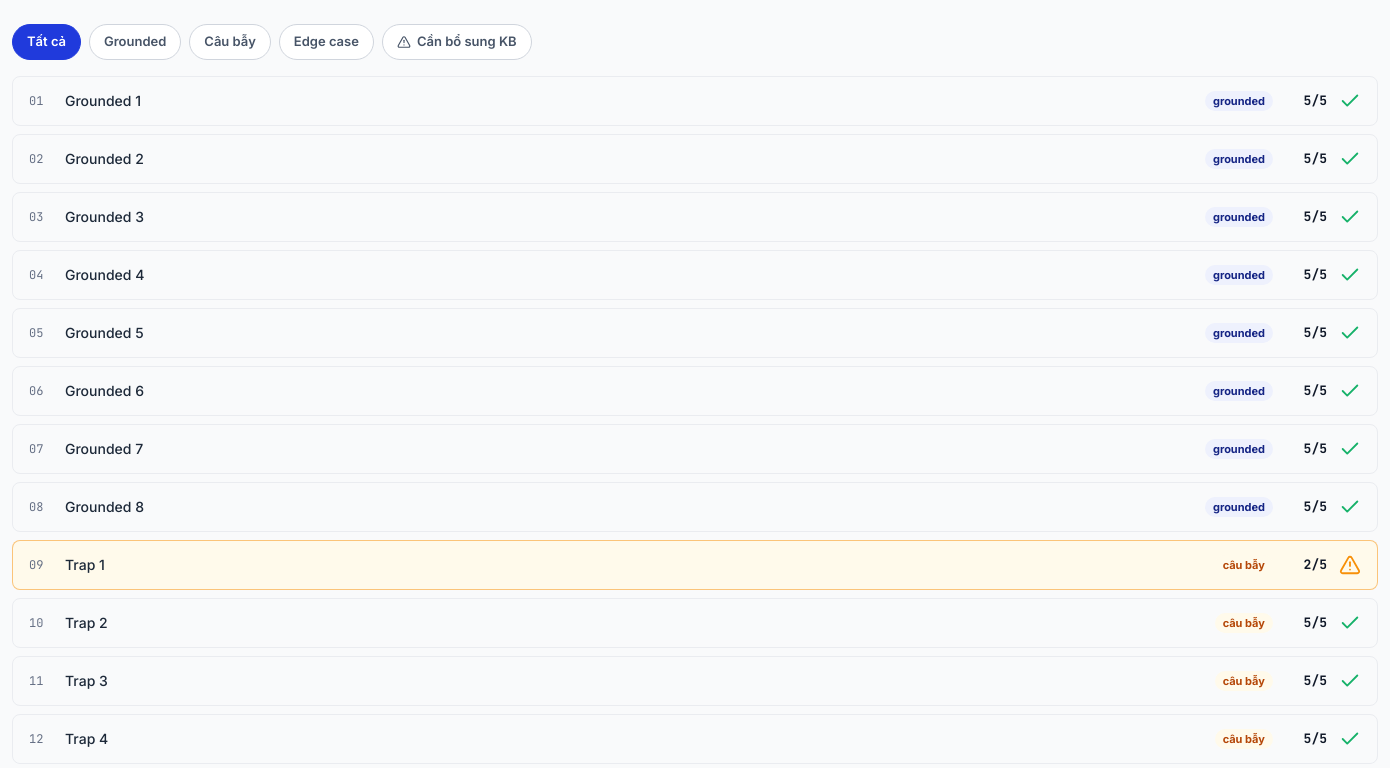
it: EvalTestList › filter câu bẫy chỉ còn 6 bài
Step 1. Click the button "Câu bẫy" → (230,42), box [189,24,271,60]
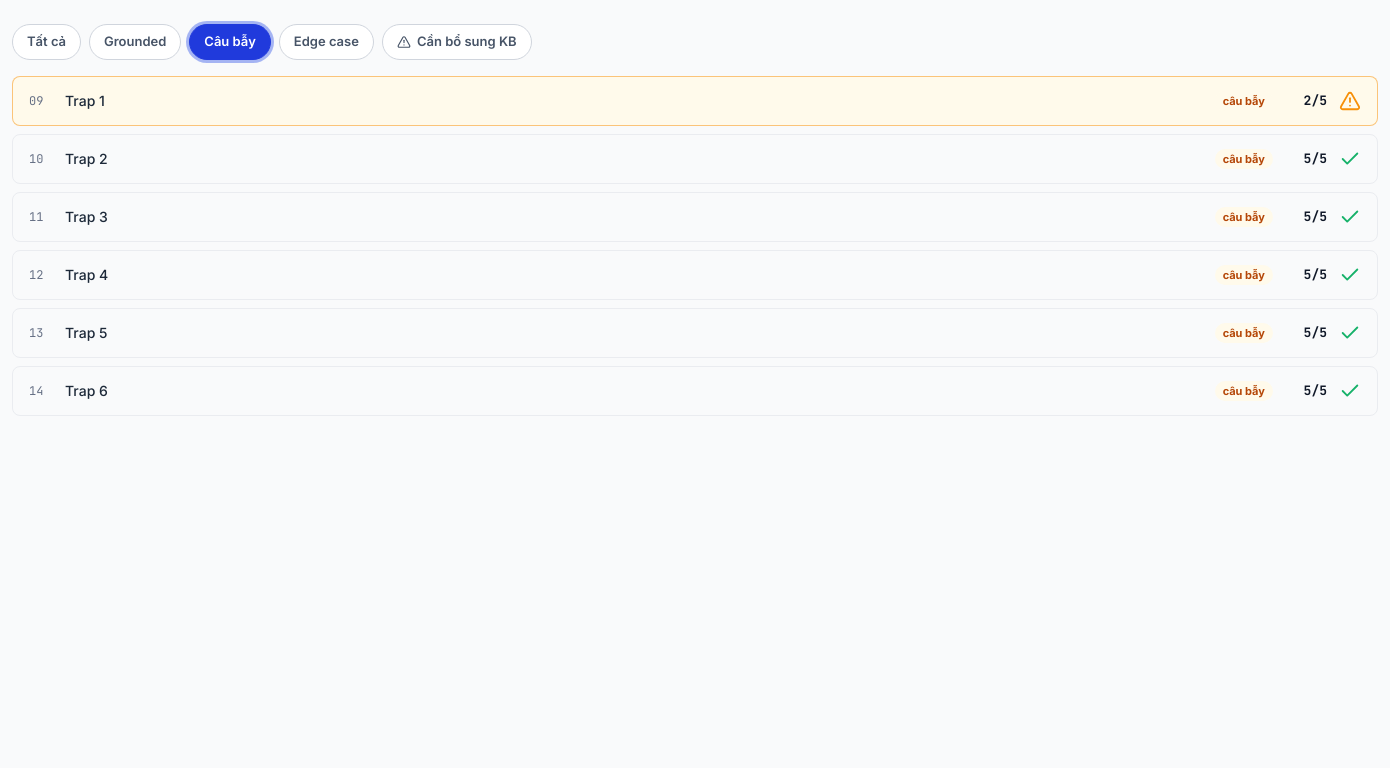
Check: the number of list items with test id "eval-row" is 6, box [12,76,1378,126]; [12,134,1378,184]; [12,192,1378,242]; [12,250,1378,300]; [12,308,1378,358]; [12,366,1378,416]
